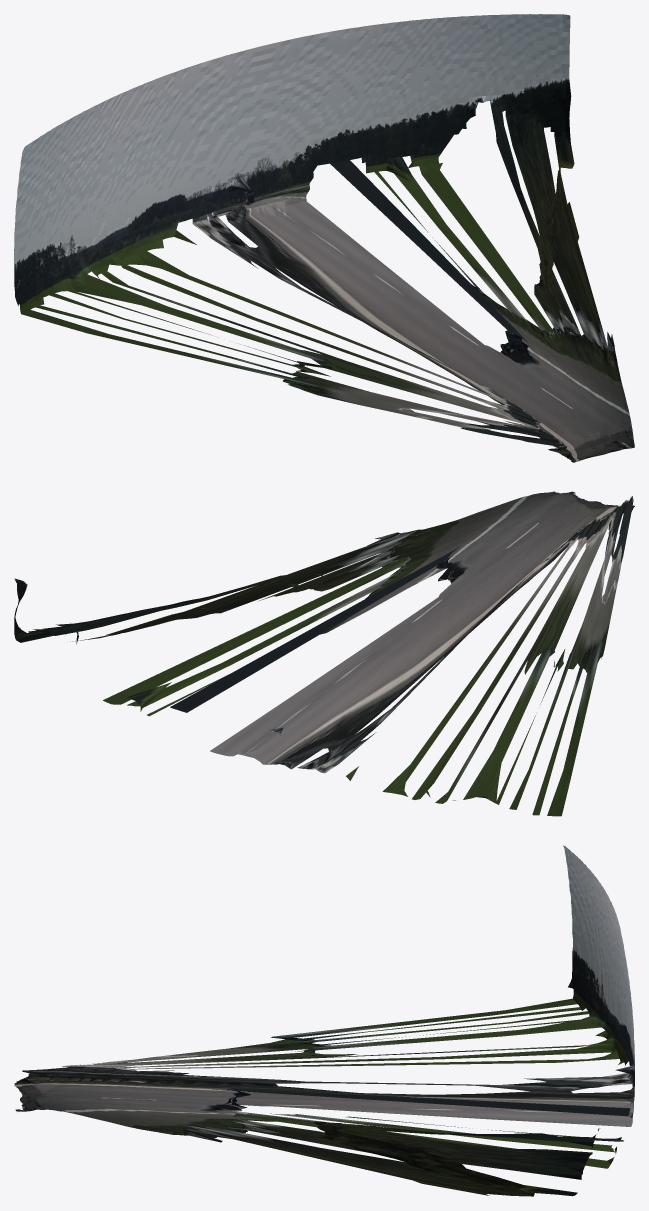
3 renders of one model, top to bottom at view 1: azimuth 30°, elevation 25°; view 2: azimuth 150°, elevation 25°; view 3: azimuth 270°, elevation 25°, orthographic. The views are drawn at different scales.
Visible parts, largest first — view 1: defaultobject; view 2: defaultobject; view 3: defaultobject.
Boxes of the visible parts, x1,y1,x2,y2 form: defaultobject: (14, 14, 634, 462); defaultobject: (14, 491, 634, 816); defaultobject: (14, 845, 634, 1196).
Bounding box in the file's own units: 41.08 × 13.01 × 44.67.
1 material, 1 textured.
